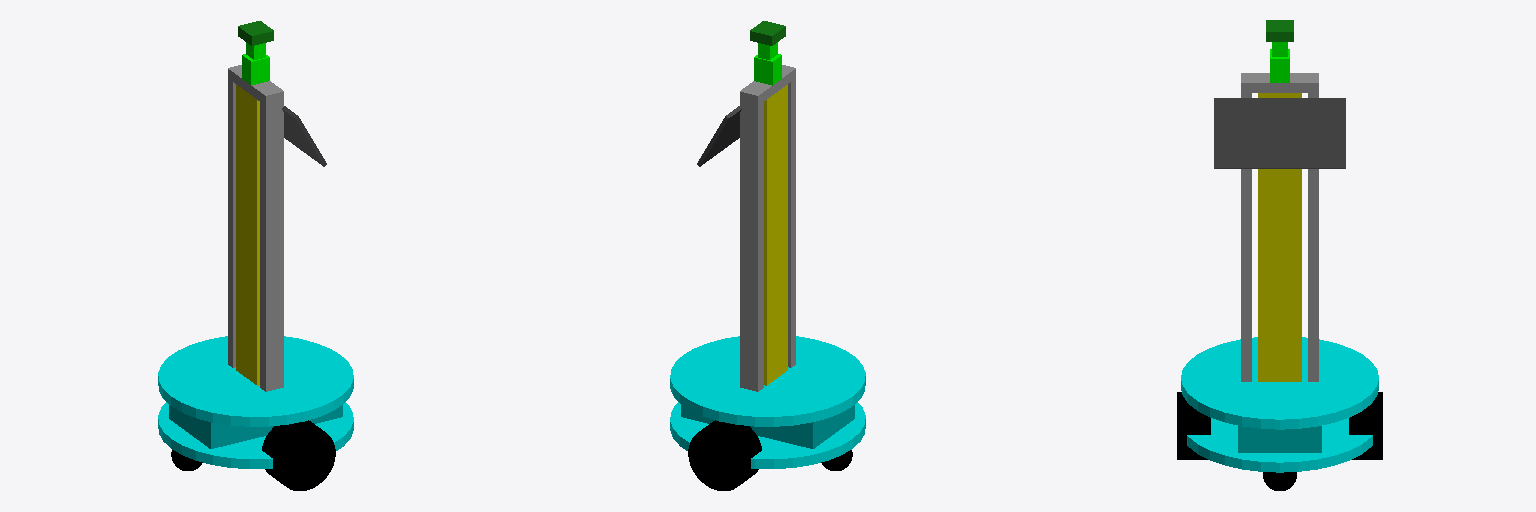
robot.urdf — mybot_xacro:
<?xml version="1.0" ?>
<!-- =================================================================================== -->
<!-- |    This document was autogenerated by xacro from mybot.xacro                    | -->
<!-- |    EDITING THIS FILE BY HAND IS NOT RECOMMENDED                                 | -->
<!-- =================================================================================== -->
<robot name="mybot_xacro" xmlns:controller="http://playerstage.sourceforge.net/gazebo/xmlschema/#controller" xmlns:interface="http://playerstage.sourceforge.net/gazebo/xmlschema/#interface" xmlns:sensor="http://playerstage.sourceforge.net/gazebo/xmlschema/#sensor" xmlns:xacro="http://ros.org/wiki/xacro">
  <!-- KINECT ATTACHMENT -->
  <joint name="camera_rgb_joint" type="fixed">
    <!--origin xyz="${cam_px} ${cam_py} ${cam_pz}" rpy="${cam_or} ${cam_op} ${cam_oy}"/-->
    <origin rpy="0 0 0" xyz="0.028 -0.0125 0.075"/>
    <parent link="kinect_base_link"/>
    <child link="camera_rgb_frame"/>
  </joint>
  <link name="camera_rgb_frame">
    <inertial>
      <mass value="0.001"/>
      <origin xyz="0 0 0"/>
      <inertia ixx="0.0001" ixy="0.0" ixz="0.0" iyy="0.0001" iyz="0.0" izz="0.0001"/>
    </inertial>
  </link>
  <joint name="camera_rgb_optical_joint" type="fixed">
    <origin rpy="-1.57079632679 0 -1.57079632679" xyz="0 0 0"/>
    <parent link="camera_rgb_frame"/>
    <child link="camera_rgb_optical_frame"/>
  </joint>
  <link name="camera_rgb_optical_frame">
    <inertial>
      <mass value="0.001"/>
      <origin xyz="0 0 0"/>
      <inertia ixx="0.0001" ixy="0.0" ixz="0.0" iyy="0.0001" iyz="0.0" izz="0.0001"/>
    </inertial>
  </link>
  <joint name="camera_joint" type="fixed">
    <origin rpy="0 0 0" xyz="-0.031 0.0125 -0.016"/>
    <parent link="camera_rgb_frame"/>
    <child link="camera_link"/>
  </joint>
  <link name="camera_link">
    <visual>
      <!--origin xyz="0 0 0" rpy="0 0 ${M_PI/2}"/-->
      <origin rpy="0 0 1.57079632679" xyz="0 0 0"/>
      <geometry>
        <mesh filename="package://mybot_description/meshes/sensors/kinect.dae"/>
      </geometry>
    </visual>
    <collision>
      <origin rpy="0 0 0" xyz="0.0 0.0 0.0"/>
      <geometry>
        <box size="0.07271 0.27794 0.073"/>
      </geometry>
    </collision>
    <inertial>
      <mass value="0.001"/>
      <origin xyz="0 0 0"/>
      <inertia ixx="0.0001" ixy="0.0" ixz="0.0" iyy="0.0001" iyz="0.0" izz="0.0001"/>
    </inertial>
  </link>
  <joint name="camera_depth_joint" type="fixed">
    <origin rpy="0 0 0" xyz="0 0.025 0"/>
    <parent link="camera_rgb_frame"/>
    <child link="camera_depth_frame"/>
  </joint>
  <link name="camera_depth_frame">
    <inertial>
      <mass value="0.001"/>
      <origin xyz="0 0 0"/>
      <inertia ixx="0.0001" ixy="0.0" ixz="0.0" iyy="0.0001" iyz="0.0" izz="0.0001"/>
    </inertial>
  </link>
  <joint name="camera_depth_optical_joint" type="fixed">
    <origin rpy="-1.57079632679 0 -1.57079632679" xyz="0 0 0"/>
    <parent link="camera_depth_frame"/>
    <child link="camera_depth_optical_frame"/>
  </joint>
  <link name="camera_depth_optical_frame">
    <inertial>
      <mass value="0.001"/>
      <origin xyz="0 0 0"/>
      <inertia ixx="0.0001" ixy="0.0" ixz="0.0" iyy="0.0001" iyz="0.0" izz="0.0001"/>
    </inertial>
  </link>
  <gazebo reference="camera_link">
    <sensor name="camera" type="depth">
      <always_on>true</always_on>
      <update_rate>20.0</update_rate>
      <camera>
        <horizontal_fov>1.0471975512</horizontal_fov>
        <image>
          <format>R8G8B8</format>
          <width>640</width>
          <height>480</height>
        </image>
        <clip>
          <near>0.05</near>
          <far>8.0</far>
        </clip>
      </camera>
      <plugin filename="libgazebo_ros_openni_kinect.so" name="kinect_camera_controller">
        <cameraName>camera</cameraName>
        <alwaysOn>true</alwaysOn>
        <updateRate>10</updateRate>
        <imageTopicName>rgb/image_raw</imageTopicName>
        <depthImageTopicName>depth/image_raw</depthImageTopicName>
        <pointCloudTopicName>depth/points</pointCloudTopicName>
        <cameraInfoTopicName>rgb/camera_info</cameraInfoTopicName>
        <depthImageCameraInfoTopicName>depth/camera_info</depthImageCameraInfoTopicName>
        <frameName>camera_depth_optical_frame</frameName>
        <baseline>0.1</baseline>
        <distortion_k1>0.0</distortion_k1>
        <distortion_k2>0.0</distortion_k2>
        <distortion_k3>0.0</distortion_k3>
        <distortion_t1>0.0</distortion_t1>
        <distortion_t2>0.0</distortion_t2>
        <pointCloudCutoff>0.4</pointCloudCutoff>
      </plugin>
    </sensor>
  </gazebo>
  <!-- LASER ATTACHMENT -->
  <link name="laser">
    <collision>
      <origin rpy="0 0 0" xyz="0 0 0"/>
      <geometry>
        <box size="0.1 0.1 0.1"/>
      </geometry>
    </collision>
    <visual>
      <origin rpy="0 0 0" xyz="0 0 0"/>
      <geometry>
        <mesh filename="package://mybot_description/meshes/sensors/hokuyo.dae"/>
      </geometry>
    </visual>
    <inertial>
      <mass value="1e-5"/>
      <origin rpy="0 0 0" xyz="0 0 0"/>
      <inertia ixx="1e-6" ixy="0" ixz="0" iyy="1e-6" iyz="0" izz="1e-6"/>
    </inertial>
  </link>
  <joint name="laser_joint" type="fixed">
    <axis xyz="0 0 0"/>
    <origin rpy="0 0 0" xyz="0.168 0 0.06"/>
    <parent link="upper_base_link"/>
    <child link="laser"/>
  </joint>
  <!-- Import all Gazebo-customization elements, including Gazebo colors, sensors, controller -->
  <gazebo>
    <plugin filename="libgazebo_ros_control.so" name="gazebo_ros_control">
      <robotNamespace>/mybot_xacro</robotNamespace>
    </plugin>
  </gazebo>
  <gazebo reference="base_link">
    <material>Gazebo/Orange</material>
  </gazebo>
  <gazebo reference="wheel_1">
    <!-- remove friction        
	<mu1>0.0</mu1> 
        <mu2>0.0</mu2>
	-->
    <mu1 value="0.0"/>
    <mu2 value="0.0"/>
    <material>Gazebo/Black</material>
  </gazebo>
  <gazebo reference="wheel_2">
    <material>Gazebo/Black</material>
    <mu1>1000000.0</mu1>
    <mu2>1000000.0</mu2>
    <kp>1000000.0</kp>
    <kd>0.5</kd>
    <minDepth>0.001</minDepth>
    <maxVel>1.0</maxVel>
  </gazebo>
  <gazebo reference="wheel_3">
    <!-- remove friction
	<mu1>0.0</mu1> 
        <mu2>0.0</mu2>
	-->
    <mu1 value="0.0"/>
    <mu2 value="0.0"/>
    <material>Gazebo/Black</material>
  </gazebo>
  <gazebo reference="wheel_4">
    <material>Gazebo/Black</material>
    <mu1>1000000.0</mu1>
    <mu2>1000000.0</mu2>
    <kp>1000000.0</kp>
    <kd>0.5</kd>
    <minDepth>0.001</minDepth>
    <maxVel>1.0</maxVel>
  </gazebo>
  <gazebo reference="laser">
    <sensor name="head_hokuyo_sensor" type="gpu_ray">
      <pose>0 0 0 0 0 0</pose>
      <visualize>false</visualize>
      <update_rate>40</update_rate>
      <ray>
        <scan>
          <horizontal>
            <samples>720</samples>
            <resolution>1</resolution>
            <min_angle>-1.570796</min_angle>
            <max_angle>1.570796</max_angle>
          </horizontal>
        </scan>
        <range>
          <min>0.10</min>
          <!--max>30.0</max-->
          <max>10.0</max>
          <resolution>0.01</resolution>
        </range>
        <noise>
          <type>gaussian</type>
          <!-- Noise parameters based on published spec for Hokuyo laser
               achieving "+-30mm" accuracy at range < 10m.  A mean of 0.0m and
               stddev of 0.01m will put 99.7% of samples within 0.03m of the true
               reading. -->
          <mean>0.0</mean>
          <stddev>0.01</stddev>
        </noise>
      </ray>
      <plugin filename="libgazebo_ros_gpu_laser.so" name="gazebo_ros_head_hokuyo_controller">
        <topicName>/scan</topicName>
        <frameName>laser</frameName>
      </plugin>
    </sensor>
  </gazebo>
  <gazebo>
    <plugin filename="libgazebo_ros_diff_drive.so" name="differential_drive_controller">
      <rosDebugLevel>Debug</rosDebugLevel>
      <publishWheelTF>false</publishWheelTF>
      <!--publishTf>1</publishTf-->
      <publishWheelJointState>true</publishWheelJointState>
      <alwaysOn>true</alwaysOn>
      <updateRate>100</updateRate>
      <leftJoint>base_to_wheel2</leftJoint>
      <rightJoint>base_to_wheel4</rightJoint>
      <wheelSeparation>0.390</wheelSeparation>
      <wheelDiameter>0.155</wheelDiameter>
      <wheelTorque>30</wheelTorque>
      <wheelAcceleration>0.25</wheelAcceleration>
      <!-- roslaunch turtlebot_teleop keyboard_teleop.launch 
    <commandTopic>/cmd_vel_mux/input/teleop</commandTopic>
    -->
      <!-- -->
      <commandTopic>cmd_vel</commandTopic>
      <odometryTopic>odom</odometryTopic>
      <odometryFrame>odom</odometryFrame>
      <!--odometrySource>1</odometrySource-->
      <robotBaseFrame>base_footprint</robotBaseFrame>
    </plugin>
  </gazebo>
  <!--xacro:property name="height_torso" value="0.625" /-->
  <link name="base_footprint">
    <visual>
      <geometry>
        <box size="0.001 0.001 0.001"/>
      </geometry>
      <origin rpy="0 0 0" xyz="0 0 0"/>
    </visual>
    <inertial>
      <mass value="0.0001"/>
      <inertia ixx="1.0" ixy="0.0" ixz="0.0" iyy="1.0" iyz="0.0" izz="1.0"/>
    </inertial>
  </link>
  <gazebo reference="base_footprint">
    <material>Gazebo/Green</material>
    <turnGravityOff>false</turnGravityOff>
  </gazebo>
  <joint name="base_footprint_joint" type="fixed">
    <origin xyz="0 0 0"/>
    <parent link="base_footprint"/>
    <child link="base_link"/>
  </joint>
  <link name="base_link">
    <visual>
      <origin rpy="0 0 0" xyz="0 0 0"/>
      <geometry>
        <cylinder length="0.025" radius="0.225"/>
      </geometry>
      <material name="Cyan1">
        <color rgba="0 0.9 0.9 1.0"/>
      </material>
    </visual>
    <collision>
      <geometry>
        <cylinder length="0.025" radius="0.225"/>
      </geometry>
    </collision>
    <inertial>
      <mass value="10"/>
      <inertia ixx="0.571875" ixy="0" ixz="0" iyy="0.571875" iyz="0" izz="1.1390625"/>
    </inertial>
  </link>
  <!--front wheel -->
  <link name="wheel_1">
    <visual>
      <origin rpy="0 0 0" xyz="0 0 0"/>
      <geometry>
        <sphere radius="0.03875"/>
      </geometry>
      <material name="black">
        <color rgba="0 0 0 1"/>
      </material>
    </visual>
    <collision>
      <origin rpy="0 0 0" xyz="0 0 0"/>
      <geometry>
        <sphere radius="0.03875"/>
      </geometry>
    </collision>
    <inertial>
      <origin rpy="0 0 0" xyz="0 0 0"/>
      <mass value="2"/>
      <inertia ixx="0.00120125" ixy="0" ixz="0" iyy="0.00120125" iyz="0" izz="0.00120125"/>
    </inertial>
  </link>
  <!-- left wheel -->
  <link name="wheel_2">
    <visual>
      <geometry>
        <cylinder length="0.075" radius="0.0775"/>
      </geometry>
      <!-- <origin rpy="0 1.5 0" xyz="-0.1 0.1 0"/> -->
      <origin rpy="0 0 0" xyz="0 0 0"/>
      <material name="black"/>
    </visual>
    <collision>
      <origin rpy="0 0 0" xyz="0 0 0"/>
      <geometry>
        <cylinder length="0.075" radius="0.0775"/>
      </geometry>
    </collision>
    <inertial>
      <mass value="2"/>
      <inertia ixx="0.003940625" ixy="0" ixz="0" iyy="0.003940625" iyz="0" izz="0.00600625"/>
    </inertial>
  </link>
  <!-- back wheel -->
  <link name="wheel_3">
    <visual>
      <origin rpy="0 0 0" xyz="0 0 0"/>
      <geometry>
        <sphere radius="0.03875"/>
      </geometry>
      <material name="black">
        <color rgba="0 0 0 1"/>
      </material>
    </visual>
    <collision>
      <origin rpy="0 0 0" xyz="0 0 0"/>
      <geometry>
        <sphere radius="0.03875"/>
      </geometry>
    </collision>
    <inertial>
      <origin rpy="0 0 0" xyz="0 0 0"/>
      <mass value="2"/>
      <inertia ixx="0.00120125" ixy="0" ixz="0" iyy="0.00120125" iyz="0" izz="0.00120125"/>
    </inertial>
  </link>
  <!-- right wheel -->
  <link name="wheel_4">
    <visual>
      <geometry>
        <cylinder length="0.075" radius="0.0775"/>
      </geometry>
      <!--	<origin rpy="0 1.5 0" xyz="-0.1 -0.1 0"/> -->
      <origin rpy="0 0 0" xyz="0 0 0"/>
      <material name="black"/>
    </visual>
    <collision>
      <origin rpy="0 0 0" xyz="0 0 0"/>
      <geometry>
        <cylinder length="0.075" radius="0.0775"/>
      </geometry>
    </collision>
    <inertial>
      <mass value="2"/>
      <inertia ixx="0.003940625" ixy="0" ixz="0" iyy="0.003940625" iyz="0" izz="0.00600625"/>
    </inertial>
  </link>
  <link name="cpu_link">
    <visual>
      <geometry>
        <box size="0.35 .19 0.095"/>
      </geometry>
      <origin rpy="0 0 0" xyz="0 0 0.0475"/>
      <material name="Cyan2">
        <color rgba="0 0.7 0.7 1.0"/>
      </material>
    </visual>
    <collision>
      <origin rpy="0 0 0" xyz="0 0 0.0475"/>
      <geometry>
        <box size="0.35 .19 0.095"/>
      </geometry>
    </collision>
    <inertial>
      <mass value="2"/>
      <inertia ixx="1.0" ixy="0.0" ixz="0.0" iyy="1.0" iyz="0.0" izz="1.0"/>
    </inertial>
  </link>
  <link name="upper_base_link">
    <visual>
      <origin rpy="0 0 0" xyz="0 0 0.0125"/>
      <geometry>
        <cylinder length="0.025" radius="0.225"/>
      </geometry>
      <material name="Cyan1">
        <color rgba="0 0.9 0.9 1.0"/>
      </material>
    </visual>
    <collision>
      <origin rpy="0 0 0" xyz="0 0 0.0125"/>
      <geometry>
        <cylinder length="0.025" radius="0.225"/>
      </geometry>
    </collision>
    <inertial>
      <mass value="1"/>
      <inertia ixx="1.0" ixy="0.0" ixz="0.0" iyy="1.0" iyz="0.0" izz="1.0"/>
    </inertial>
  </link>
  <link name="torso_link">
    <visual>
      <origin rpy="0 0 0" xyz="0 0 0.3625"/>
      <geometry>
        <box size="0.05 0.1 0.725"/>
      </geometry>
      <material name="Yellow2">
        <color rgba="0.8 0.8 0 1.0"/>
      </material>
    </visual>
    <collision>
      <origin rpy="0 0 0" xyz="0 0 0.3625"/>
      <geometry>
        <box size="0.05 0.1 0.725"/>
      </geometry>
    </collision>
    <inertial>
      <mass value="1"/>
      <inertia ixx="1.0" ixy="0.0" ixz="0.0" iyy="1.0" iyz="0.0" izz="1.0"/>
    </inertial>
  </link>
  <link name="right_torso_link">
    <visual>
      <origin rpy="0 0 0" xyz="0 0 0.3625"/>
      <geometry>
        <box size="0.05 0.025 0.725"/>
      </geometry>
      <material name="Grey2">
        <color rgba="0.6 0.6 0.6 1.0"/>
      </material>
    </visual>
    <collision>
      <origin rpy="0 0 0" xyz="0 0 0.3625"/>
      <geometry>
        <box size="0.05 0.1 0.725"/>
      </geometry>
    </collision>
    <inertial>
      <mass value="1"/>
      <inertia ixx="1.0" ixy="0.0" ixz="0.0" iyy="1.0" iyz="0.0" izz="1.0"/>
    </inertial>
  </link>
  <link name="left_torso_link">
    <visual>
      <origin rpy="0 0 0" xyz="0 0 0.3625"/>
      <geometry>
        <box size="0.05 0.025 0.725"/>
      </geometry>
      <material name="Grey2">
        <color rgba="0.6 0.6 0.6 1.0"/>
      </material>
    </visual>
    <collision>
      <origin rpy="0 0 0" xyz="0 0 0.3625"/>
      <geometry>
        <box size="0.05 0.1 0.725"/>
      </geometry>
    </collision>
    <inertial>
      <mass value="1"/>
      <inertia ixx="1.0" ixy="0.0" ixz="0.0" iyy="1.0" iyz="0.0" izz="1.0"/>
    </inertial>
  </link>
  <link name="top_torso_link">
    <visual>
      <origin rpy="0 0 0" xyz="0 0 0.0125"/>
      <geometry>
        <box size="0.05 0.175 0.025"/>
      </geometry>
      <material name="Grey2">
        <color rgba="0.6 0.6 0.6 1.0"/>
      </material>
    </visual>
    <collision>
      <origin rpy="0 0 0" xyz="0 0 0.0125"/>
      <geometry>
        <box size="0.05 0.125 0.025"/>
      </geometry>
    </collision>
    <inertial>
      <mass value="0.125"/>
      <inertia ixx="1.0" ixy="0.0" ixz="0.0" iyy="1.0" iyz="0.0" izz="1.0"/>
    </inertial>
  </link>
  <link name="head_pan_link">
    <visual>
      <origin rpy="0 0 0" xyz="0 0 0.03"/>
      <geometry>
        <box size="0.05 0.045 0.06"/>
      </geometry>
      <material name="Green1">
        <color rgba="0 1 0 1.0"/>
      </material>
    </visual>
    <collision>
      <origin rpy="0 0 0" xyz="0 0 0.03"/>
      <geometry>
        <box size="0.05 0.045 0.06"/>
      </geometry>
    </collision>
    <inertial>
      <mass value="0.125"/>
      <inertia ixx="1.0" ixy="0.0" ixz="0.0" iyy="1.0" iyz="0.0" izz="1.0"/>
    </inertial>
  </link>
  <link name="head_tilt_link">
    <visual>
      <origin rpy="0 0 0" xyz="0 0 0.0225"/>
      <geometry>
        <box size="0.03 0.038 0.045"/>
      </geometry>
      <material name="Green1">
        <color rgba="0 1 0 1.0"/>
      </material>
    </visual>
    <collision>
      <origin rpy="0 0 0" xyz="0 0 0.0225"/>
      <geometry>
        <box size="0.03 0.038 0.045"/>
      </geometry>
    </collision>
    <inertial>
      <mass value="0.125"/>
      <inertia ixx="1.0" ixy="0.0" ixz="0.0" iyy="1.0" iyz="0.0" izz="1.0"/>
    </inertial>
  </link>
  <link name="kinect_base_link">
    <visual>
      <origin rpy="0 0 0" xyz="0 0 0.0125"/>
      <geometry>
        <box size="0.06 0.065 0.025"/>
      </geometry>
      <material name="Green3">
        <color rgba="0.1 0.5 0.1 1.0"/>
      </material>
    </visual>
    <collision>
      <geometry>
        <box size="0.06 0.065 0.025"/>
      </geometry>
    </collision>
    <inertial>
      <mass value="0.125"/>
      <inertia ixx="1.0" ixy="0.0" ixz="0.0" iyy="1.0" iyz="0.0" izz="1.0"/>
    </inertial>
  </link>
  <link name="screen_link">
    <visual>
      <origin rpy="0 -0.5 0" xyz="0.06 0 -0.11"/>
      <geometry>
        <box size="0.01 0.3 0.16"/>
      </geometry>
      <material name="Grey3">
        <color rgba="0.3 0.3 0.3 1.0"/>
      </material>
    </visual>
    <collision>
      <origin rpy="0 -0.5 0" xyz="0.06 0 -0.11"/>
      <geometry>
        <box size="0.01 0.3 0.16"/>
      </geometry>
    </collision>
    <inertial>
      <mass value="0.125"/>
      <inertia ixx="1.0" ixy="0.0" ixz="0.0" iyy="1.0" iyz="0.0" izz="1.0"/>
    </inertial>
  </link>
  <!-- -->
  <joint name="base_to_wheel1" type="fixed">
    <parent link="base_link"/>
    <child link="wheel_1"/>
    <!--added length_base/32 to get the contact of the wheel with the floor -->
    <origin rpy="0 0 0" xyz="0.18 0 -0.03796875"/>
    <axis xyz="0 0 1"/>
  </joint>
  <joint name="base_to_wheel2" type="continuous">
    <axis xyz="0 0 1"/>
    <anchor xyz="0 0 0"/>
    <limit effort="100" velocity="100"/>
    <parent link="base_link"/>
    <child link="wheel_2"/>
    <origin rpy="-1.5707 0 0" xyz="0 -0.195 0"/>
  </joint>
  <!-- -->
  <joint name="base_to_wheel3" type="fixed">
    <parent link="base_link"/>
    <axis xyz="0 0 1"/>
    <child link="wheel_3"/>
    <!--added length_base/32 to get the contact of the wheel with the floor -->
    <origin rpy="0 0 0" xyz="-0.18 0 -0.03796875"/>
  </joint>
  <joint name="base_to_wheel4" type="continuous">
    <parent link="base_link"/>
    <axis xyz="0 0 1"/>
    <child link="wheel_4"/>
    <origin rpy="-1.5707 0 0" xyz="0 0.195 0"/>
  </joint>
  <joint name="cpu_base_joint" type="fixed">
    <origin xyz="0 0 0"/>
    <parent link="base_link"/>
    <child link="cpu_link"/>
  </joint>
  <joint name="upper_base_cpu_joint" type="fixed">
    <origin xyz="0 0 0.095"/>
    <parent link="cpu_link"/>
    <child link="upper_base_link"/>
  </joint>
  <joint name="torso_upper_base_joint" type="fixed">
    <origin xyz="0 0 0.025"/>
    <parent link="upper_base_link"/>
    <child link="torso_link"/>
  </joint>
  <joint name="right_torso_upper_base_joint" type="fixed">
    <origin xyz="0 -0.075 0.025"/>
    <parent link="upper_base_link"/>
    <child link="right_torso_link"/>
  </joint>
  <joint name="left_torso_upper_base_joint" type="fixed">
    <parent link="upper_base_link"/>
    <child link="left_torso_link"/>
    <origin xyz="0 0.075 0.025"/>
  </joint>
  <joint name="top_torso_torso_joint" type="fixed">
    <parent link="torso_link"/>
    <child link="top_torso_link"/>
    <origin xyz="0 0 0.725"/>
  </joint>
  <joint name="head_pan_servo" type="fixed">
    <parent link="top_torso_link"/>
    <child link="head_pan_link"/>
    <origin rpy="0 0 0" xyz="0 0 0.025"/>
  </joint>
  <joint name="head_pan_joint" type="fixed">
    <parent link="head_pan_link"/>
    <child link="head_tilt_link"/>
    <origin rpy="0 0 0" xyz="0 0 0.06"/>
  </joint>
  <joint name="kinect_base_joint" type="fixed">
    <parent link="head_tilt_link"/>
    <child link="kinect_base_link"/>
    <origin rpy="0 0 0" xyz="0 0 0.045"/>
  </joint>
  <joint name="screen_joint" type="fixed">
    <parent link="top_torso_link"/>
    <child link="screen_link"/>
    <origin rpy="0 0 0" xyz="0 0 0.025"/>
  </joint>
</robot>

--- Facts derived from the render (not from the file) ---
3 views of the same robot in one strip: view 1: azimuth 30°, elevation 25°; view 2: azimuth 150°, elevation 25°; view 3: azimuth 270°, elevation 25° (orthographic).
Robot: mybot_xacro — 22 links, 21 joints (2 continuous, 19 fixed); root link base_footprint; default pose: all joints at 0.
Visible links, largest first — view 1: upper_base_link, torso_link, right_torso_link, wheel_2, base_link, left_torso_link, cpu_link, screen_link, top_torso_link, head_pan_link, kinect_base_link; view 2: upper_base_link, torso_link, left_torso_link, wheel_4, base_link, right_torso_link, cpu_link, screen_link, top_torso_link, head_pan_link, kinect_base_link; view 3: upper_base_link, torso_link, screen_link, base_link, right_torso_link, left_torso_link, cpu_link, top_torso_link, wheel_2, wheel_4, kinect_base_link, head_pan_link (+1 smaller).
Boxes of the visible links, x1,y1,x2,y2 form: upper_base_link: [158, 336, 353, 426]; torso_link: [236, 85, 259, 385]; right_torso_link: [260, 101, 283, 391]; wheel_2: [262, 420, 335, 490]; base_link: [158, 402, 353, 468]; left_torso_link: [228, 79, 235, 367]; cpu_link: [169, 405, 342, 448]; screen_link: [282, 106, 326, 166]; top_torso_link: [228, 65, 283, 105]; head_pan_link: [242, 54, 269, 85]; kinect_base_link: [238, 21, 273, 45]; upper_base_link: [670, 336, 865, 426]; torso_link: [764, 85, 787, 385]; left_torso_link: [740, 101, 763, 391]; wheel_4: [688, 420, 761, 490]; base_link: [670, 402, 865, 468]; right_torso_link: [788, 79, 795, 367]; cpu_link: [681, 405, 854, 448]; screen_link: [697, 106, 741, 166]; top_torso_link: [740, 65, 795, 105]; head_pan_link: [754, 54, 781, 85]; kinect_base_link: [750, 21, 785, 45]; upper_base_link: [1181, 337, 1378, 429]; torso_link: [1258, 93, 1301, 381]; screen_link: [1214, 98, 1345, 168]; base_link: [1187, 418, 1372, 472]; right_torso_link: [1241, 93, 1251, 381]; left_torso_link: [1308, 93, 1318, 381]; cpu_link: [1238, 426, 1321, 452]; top_torso_link: [1241, 73, 1318, 92]; wheel_2: [1177, 392, 1210, 459]; wheel_4: [1349, 392, 1382, 459]; kinect_base_link: [1266, 20, 1293, 41]; head_pan_link: [1270, 49, 1289, 82].
Size in the robot's own frame: 0.45 by 0.465 by 1.08 metres.
Meshes: 2 distinct files referenced, 0 mesh visuals loaded (none loaded); not drawn: 2 (reference not matched to a file when rendering).